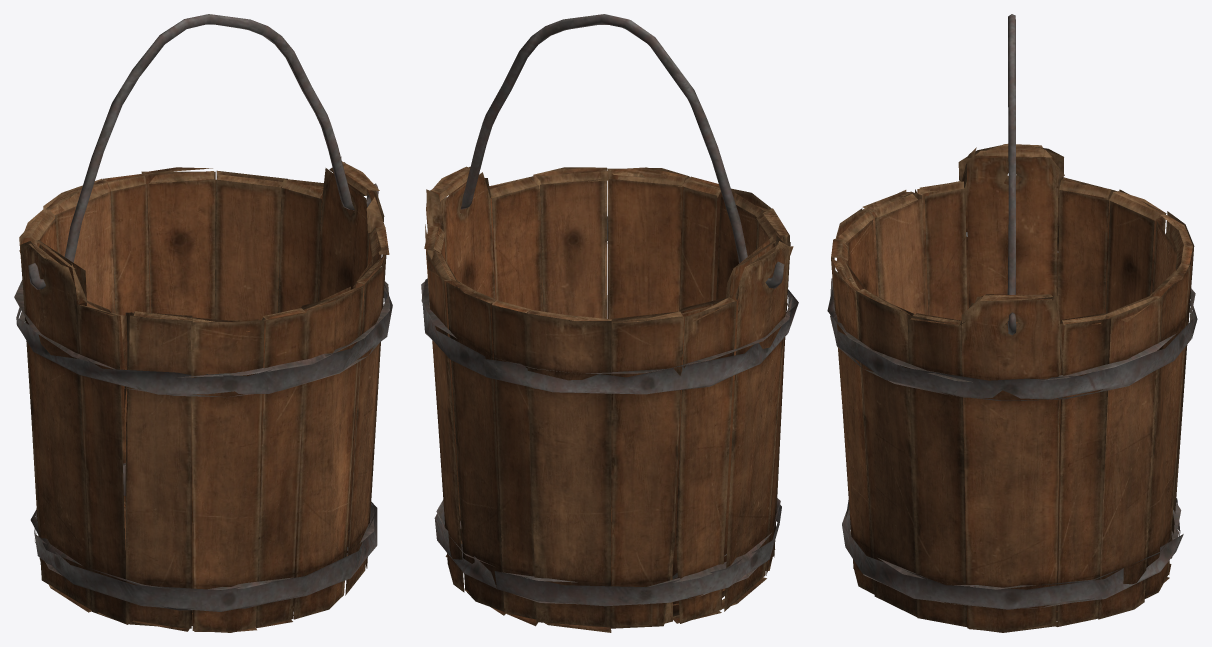
Rendered from wooden_bucket_01.glb.
3 renders of one model, left to right at view 1: azimuth 30°, elevation 25°; view 2: azimuth 150°, elevation 25°; view 3: azimuth 270°, elevation 25°, orthographic.
Visible parts, largest first — view 1: wooden_bucket_01, wooden_bucket_01_handle; view 2: wooden_bucket_01, wooden_bucket_01_handle; view 3: wooden_bucket_01, wooden_bucket_01_handle.
Boxes of the visible parts, left/top/right/bottom form: wooden_bucket_01: left=14, top=156, right=392, bottom=632; wooden_bucket_01_handle: left=28, top=14, right=378, bottom=289; wooden_bucket_01: left=421, top=166, right=798, bottom=632; wooden_bucket_01_handle: left=444, top=14, right=784, bottom=288; wooden_bucket_01: left=827, top=144, right=1197, bottom=632; wooden_bucket_01_handle: left=1007, top=14, right=1016, bottom=335.
Bounding box in the file's own units: 0.3674 × 0.5536 × 0.3419.
Materials: 1 (1 with a texture image).
